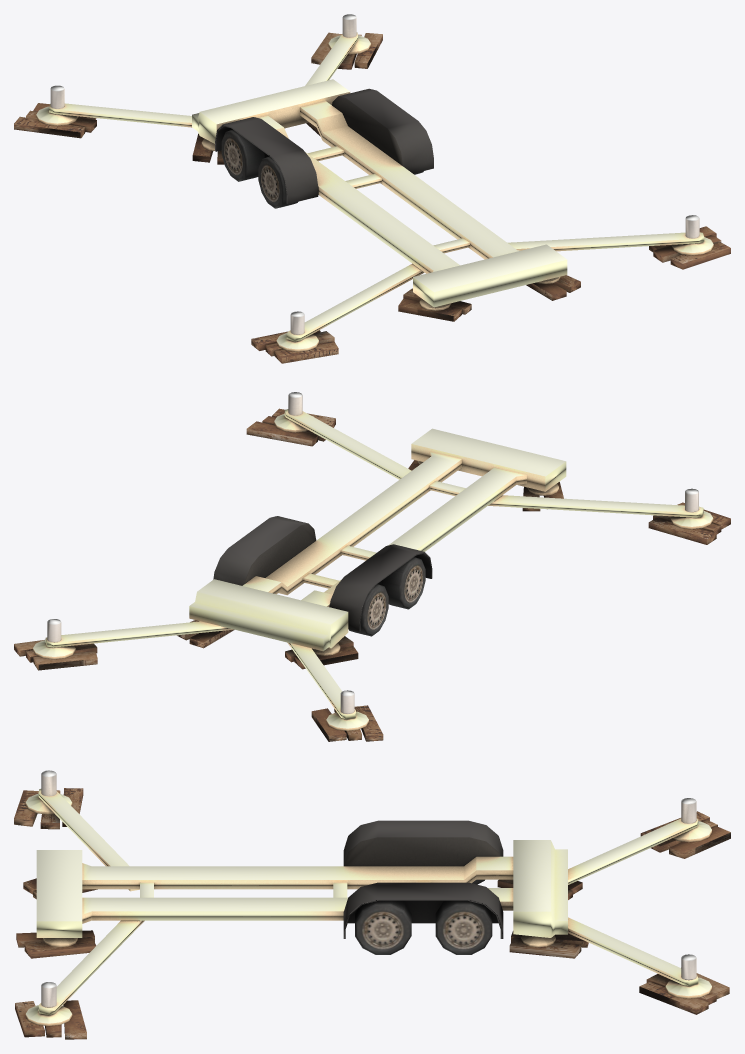
File: unterbau.fbx
3 views of the same model, one above another, from view 1: azimuth 30°, elevation 25°; view 2: azimuth 150°, elevation 25°; view 3: azimuth 270°, elevation 25° (orthographic). The views are drawn at different scales.
Parts seen in each view (by area): view 1: Mesh; view 2: Mesh; view 3: Mesh.
Part boxes in pixels (x1,y1,x2,y2): Mesh: (14,14,730,363); Mesh: (14,392,730,741); Mesh: (14,770,730,1039).
Bounding box in the file's own units: 1253 × 136 × 1549.
